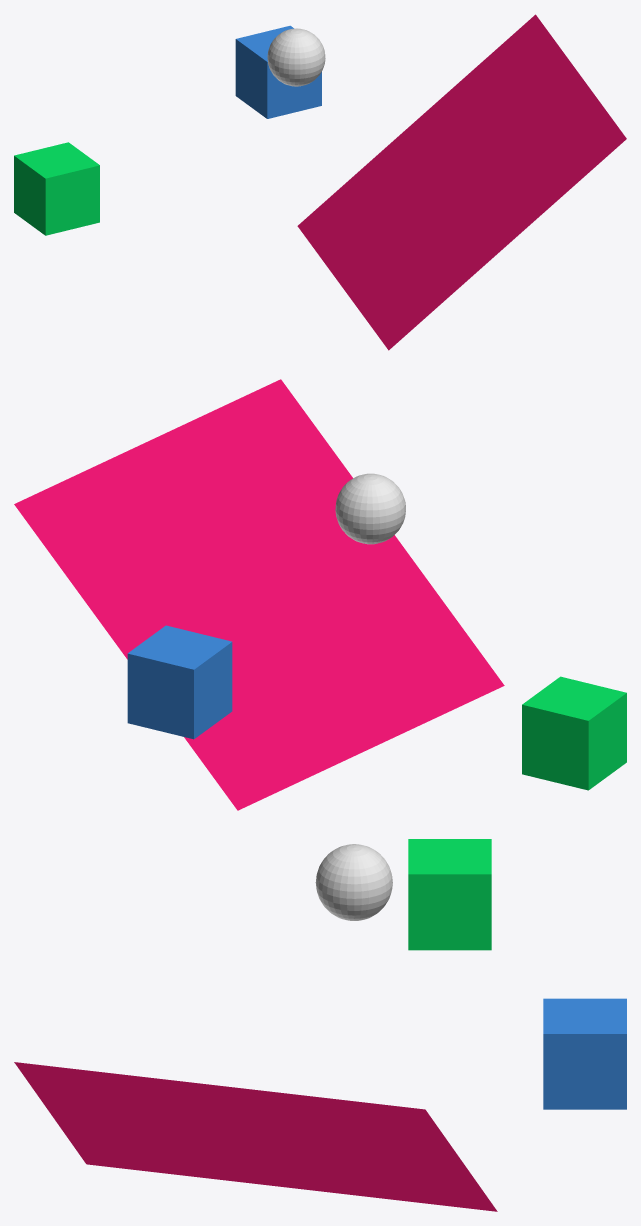
3 views of the same model, one above another, from view 1: azimuth 30°, elevation 25°; view 2: azimuth 150°, elevation 25°; view 3: azimuth 270°, elevation 25° (orthographic). The views are drawn at different scales.
Parts seen in each view (by area): view 1: Plane, Cube, Cube.001, Sphere; view 2: Plane, Cube.001, Cube, Sphere; view 3: Plane, Cube, Cube.001, Sphere.
Boxes of the visible parts, left/top/right/bottom form: Plane: left=297, top=14, right=626, bottom=350; Cube: left=14, top=142, right=99, bottom=235; Cube.001: left=235, top=25, right=321, bottom=118; Sphere: left=267, top=28, right=325, bottom=86; Plane: left=14, top=379, right=504, bottom=810; Cube.001: left=127, top=625, right=232, bottom=739; Cube: left=522, top=676, right=626, bottom=790; Sphere: left=335, top=473, right=405, bottom=544; Plane: left=14, top=1062, right=497, bottom=1211; Cube: left=408, top=839, right=491, bottom=950; Cube.001: left=543, top=998, right=626, bottom=1109; Sphere: left=315, top=844, right=392, bottom=920.
Size of the model in its own units: 3.59 by 1.71 by 2.9.
